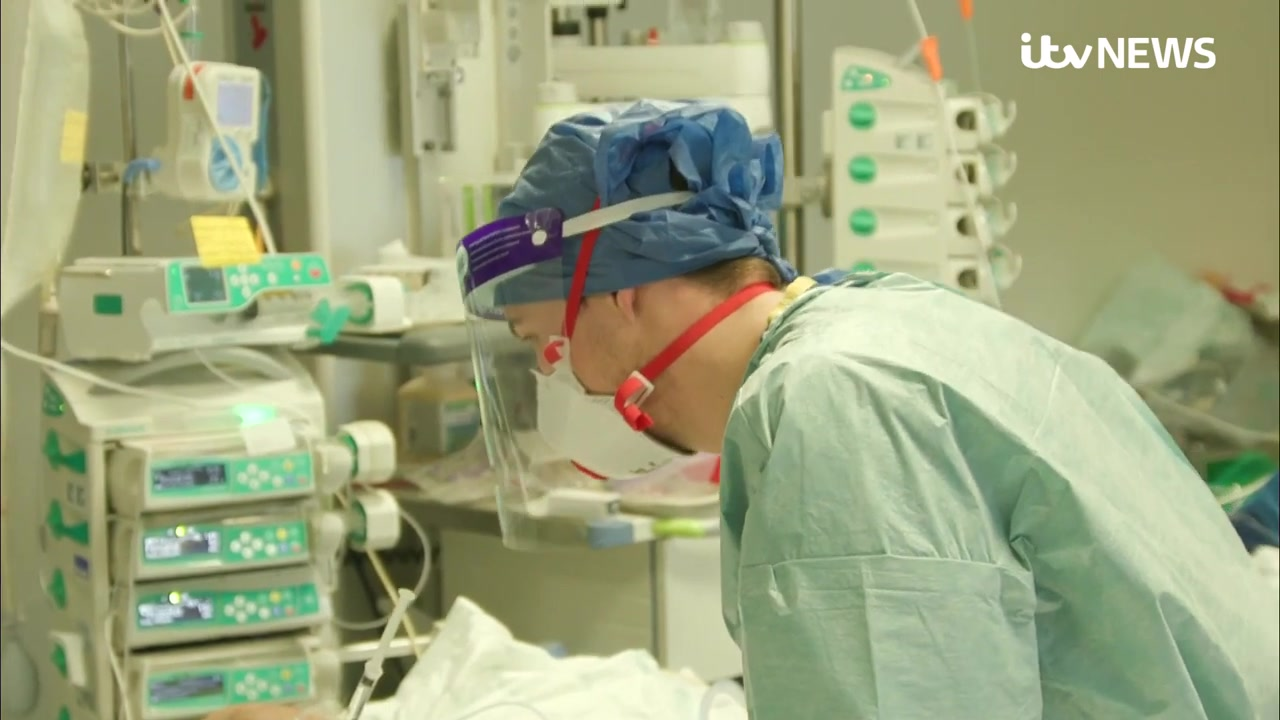iv_pole: (761, 1, 814, 278), (97, 1, 144, 256)
staff: (451, 99, 1280, 720)
syringe_pump: (71, 250, 338, 333), (116, 568, 325, 648), (111, 436, 320, 516), (111, 506, 320, 586), (113, 644, 318, 712)
